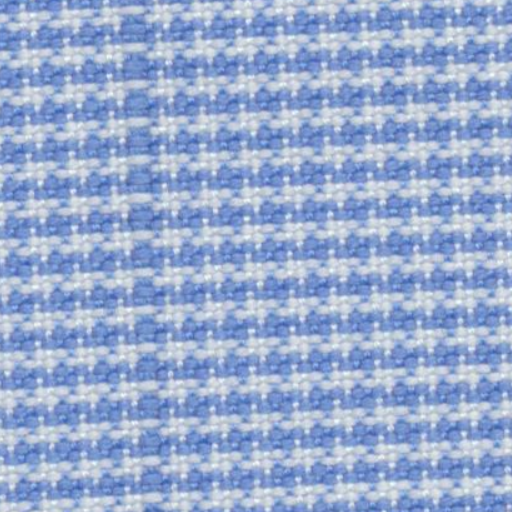TuoSha: (88, 19, 200, 496)
